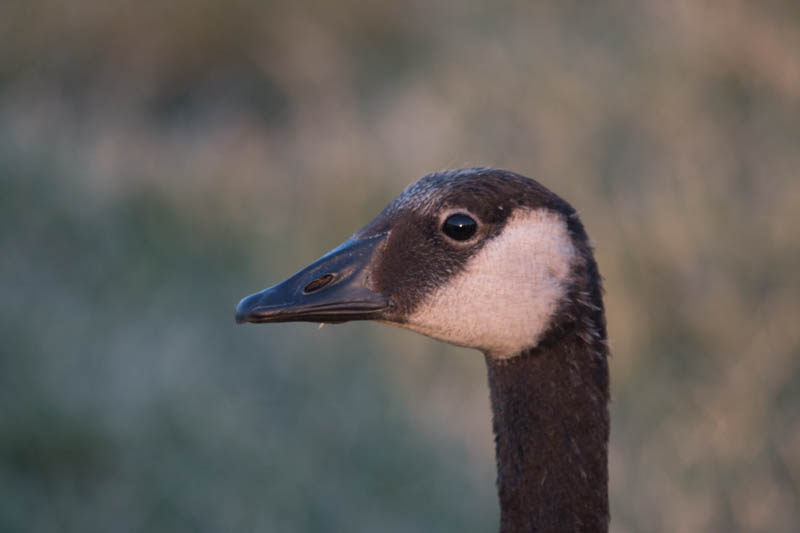goose-head: (234, 167, 608, 362)
